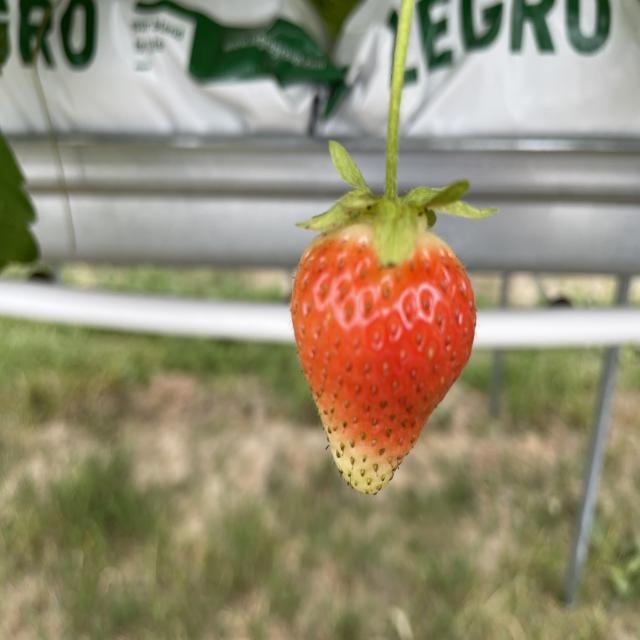stem: (300, 0, 495, 266)
strawberryR: (291, 224, 476, 494)
